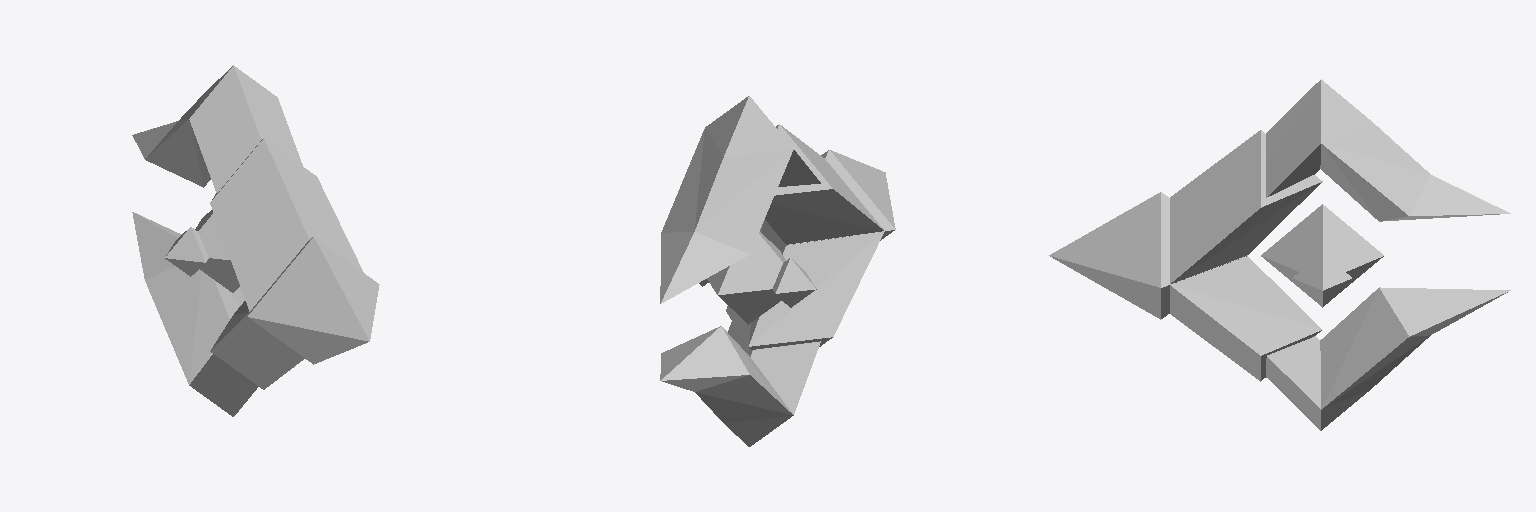
File: diamond.obj
3 renders of one model, left to right at view 1: azimuth 30°, elevation 25°; view 2: azimuth 150°, elevation 25°; view 3: azimuth 270°, elevation 25°, orthographic.
Size of the model in its own units: 5.76 by 13.82 by 16.47.